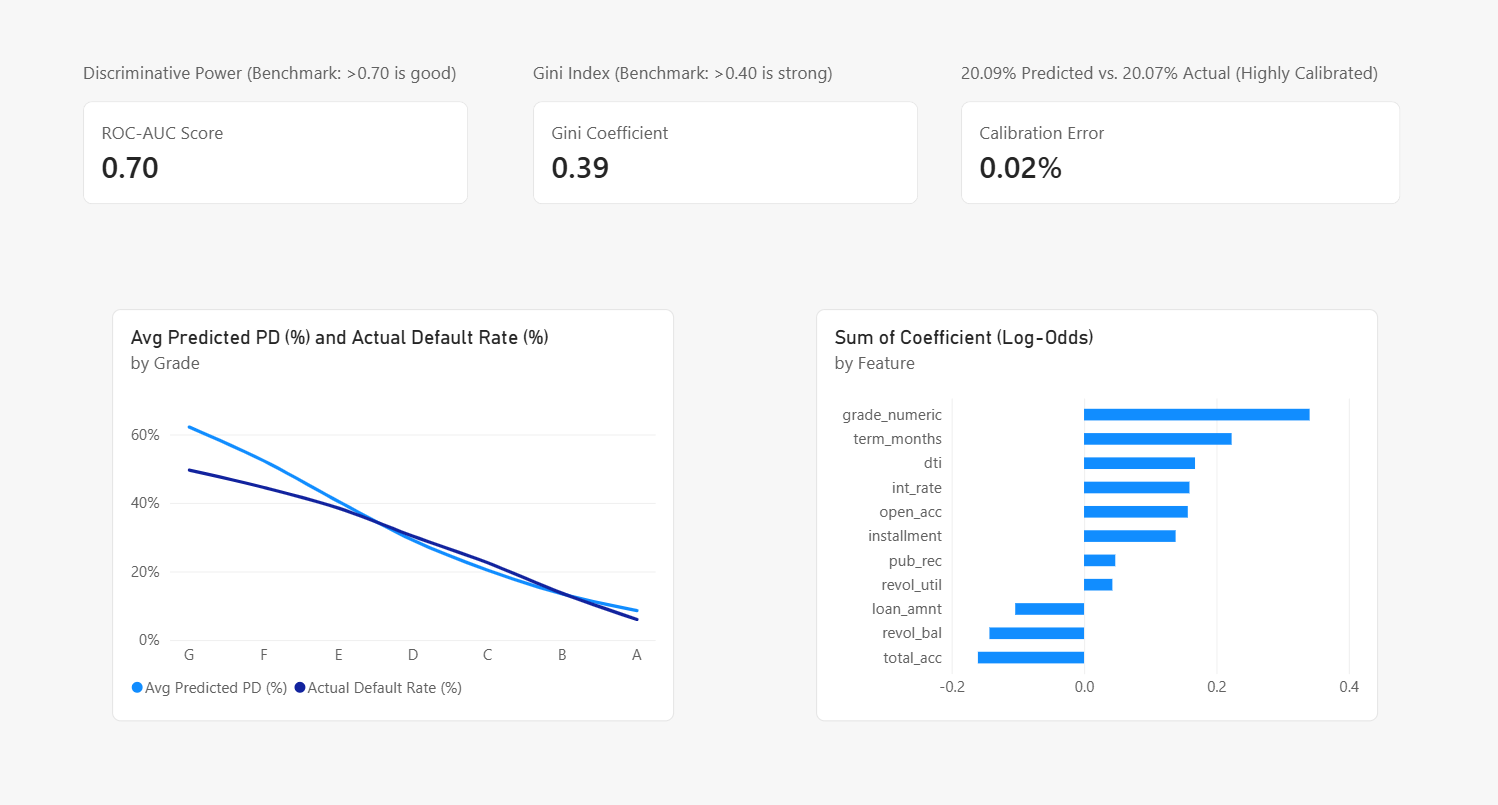

This screenshot's page, from the dashboard's own definition file:
{"tool":"powerbi","page":{"name":"PD Model Diagnostics & Risk Drivers","canvas":[1920,1080],"ordinal":1},"visuals":[{"type":"cardVisual","fields":{"Data":["powerbi_ecl_loan_predictions.ROC-AUC Score"]},"box":[368,42,355,132],"z":0},{"type":"cardVisual","fields":{"Data":["powerbi_ecl_loan_predictions.Gini Coefficient"]},"box":[782,42,355,132],"z":1},{"type":"cardVisual","fields":{"Data":["powerbi_ecl_loan_predictions.Calibration Error"]},"box":[1177,42,405,132],"z":2},{"type":"lineClusteredColumnComboChart","fields":{"Category":["powerbi_ecl_loan_predictions.Grade"],"Y2":["powerbi_ecl_loan_predictions.Avg Predicted PD (%)","powerbi_ecl_loan_predictions.Actual Default Rate (%)"]},"box":[394,271,518,380],"z":3},{"type":"clusteredBarChart","fields":{"Category":["powerbi_pd_feature_importance.Feature"],"Y":["Sum(powerbi_pd_feature_importance.Coefficient (Log-Odds))"]},"box":[1043,271,518,380],"z":4}]}

Visuals, with their boxes on the page's 1920x1080 design canvas (x1, y1, x2, y2). These are canvas units, not pixel positions in the 1498x805 screenshot, which may show the page scaled, cropped or inside an application window:
cardVisual - powerbi_ecl_loan_predictions.ROC-AUC Score: 368/42/723/174
cardVisual - powerbi_ecl_loan_predictions.Gini Coefficient: 782/42/1137/174
cardVisual - powerbi_ecl_loan_predictions.Calibration Error: 1177/42/1582/174
lineClusteredColumnComboChart - powerbi_ecl_loan_predictions.Grade x powerbi_ecl_loan_predictions.Avg Predicted PD (%): 394/271/912/651
clusteredBarChart - powerbi_pd_feature_importance.Feature x Sum(powerbi_pd_feature_importance.Coefficient (Log-Odds)): 1043/271/1561/651
